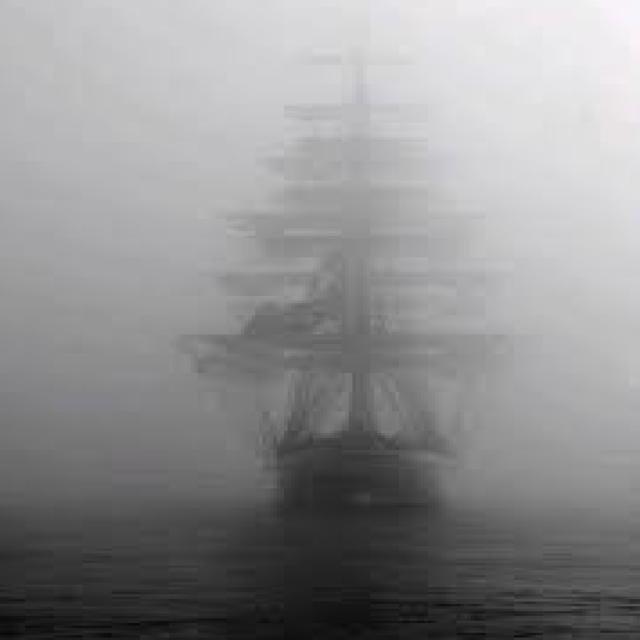fishing boat: (172, 62, 590, 537)
